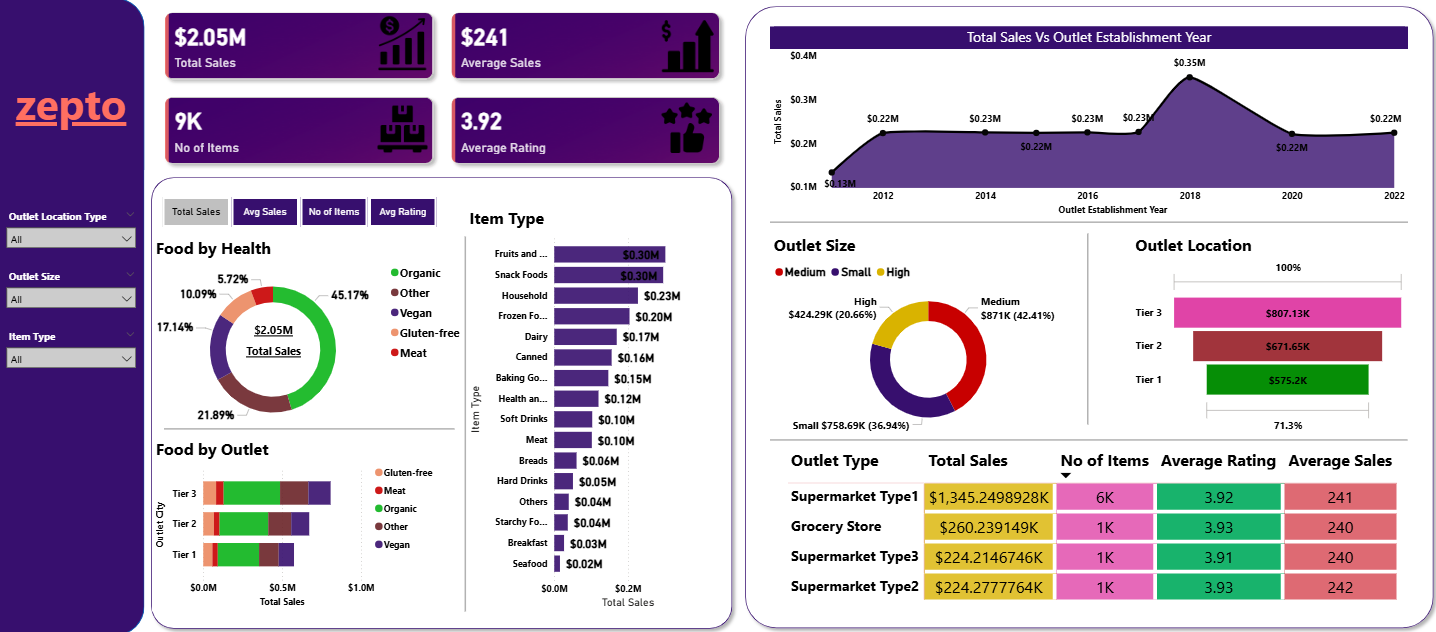

Layout of this report page (visuals, bound fields, positions):
{"tool":"powerbi","page":{"name":"Page 1","canvas":[1920,850],"ordinal":0},"visuals":[{"type":"shape","box":[985.7,2.3,935.8,847.2],"z":0},{"type":"shape","box":[0,0,193.1,849.5],"z":1000},{"type":"textbox","box":[0,96,192,106],"z":2000},{"type":"cardVisual","fields":{"Data":["BlinkIT Grocery Data.Total Sales","BlinkIT Grocery Data.Average Sales","BlinkIT Grocery Data.Number of Items","BlinkIT Grocery Data.Average Rating"]},"box":[204.4,2.3,774.5,236.2],"z":3000},{"type":"shape","box":[193.1,229.4,792.7,620.1],"z":4000},{"type":"donutChart","title":"Food by Health","fields":{"Y":["BlinkIT Grocery Data.Total Sales"],"Category":["BlinkIT Grocery Data.Food Item by Health "]},"box":[202.5,317.5,425,272.5],"z":5000},{"type":"card","fields":{"Values":["BlinkIT Grocery Data.Total Sales"]},"box":[283.9,397.5,163.5,113.6],"z":6000},{"type":"barChart","title":"Food by Outlet","fields":{"Y":["BlinkIT Grocery Data.Total Sales"],"Category":["BlinkIT Grocery Data.Outlet Location Type"],"Series":["BlinkIT Grocery Data.Food Item by Health "]},"box":[204.4,586,388.4,231.7],"z":7000},{"type":"barChart","title":"Item Type","fields":{"Y":["BlinkIT Grocery Data.Total Sales"],"Category":["BlinkIT Grocery Data.Item Type"]},"box":[622.5,277.5,337.5,540],"z":8000},{"type":"lineChart","title":"Total Sales Vs Outlet Establishment Year","fields":{"Category":["BlinkIT Grocery Data.Outlet Establishment Year"],"Y":["BlinkIT Grocery Data.Total Sales"]},"box":[1027.6,38.1,851,256.9],"z":9000},{"type":"donutChart","title":"Outlet Size","fields":{"Y":["BlinkIT Grocery Data.Total Sales"],"Category":["BlinkIT Grocery Data.Outlet Size"]},"box":[1027.6,313.1,421.5,273],"z":10000},{"type":"funnel","title":"Outlet Location","fields":{"Category":["BlinkIT Grocery Data.Outlet Location Type"],"Y":["BlinkIT Grocery Data.Total Sales"]},"box":[1509.3,313.1,369.3,270.9],"z":11000},{"type":"pivotTable","fields":{"Rows":["BlinkIT Grocery Data.Outlet Type"],"Values":["BlinkIT Grocery Data.Total Sales","BlinkIT Grocery Data.No of Items","BlinkIT Grocery Data.Average Rating","BlinkIT Grocery Data.Average Sales"]},"box":[1045,592.5,832.5,225],"z":12000},{"type":"slicer","title":"8","fields":{"Values":["BlinkIT Grocery Data.Outlet Location Type"]},"box":[0,277,192.7,72.3],"z":13000},{"type":"slicer","fields":{"Values":["Slicer.Slicer"]},"box":[192.7,258.9,415.4,54.2],"z":16000},{"type":"shape","box":[220,472.5,387.5,205],"z":17000},{"type":"shape","box":[427.5,317.5,387.5,500],"z":18000},{"type":"shape","box":[1258.4,313.1,387.3,254.9],"z":19000},{"type":"shape","box":[1027.6,38.1,851,521.8],"z":20000},{"type":"slicer","title":"8","fields":{"Values":["BlinkIT Grocery Data.Outlet Size"]},"box":[0,355.2,192.7,72.3],"z":22000},{"type":"slicer","title":"8","fields":{"Values":["BlinkIT Grocery Data.Item Type"]},"box":[0,435.5,192.7,72.3],"z":23000},{"type":"shape","box":[1027.5,327.5,850,522.5],"z":23001},{"type":"image","box":[465.1,17.5,142.9,84.1],"z":23002},{"type":"image","box":[876.2,134.9,82.5,77.8],"z":23003},{"type":"image","box":[495.1,136.3,84,77.2],"z":23004},{"type":"image","box":[876.2,17.5,84.1,92.1],"z":23005}]}

Visuals, with their boxes in screenshot pixels (x1, y1, x2, y2), scaled from the page's 1920x850 canvas onto the 1436x632 screenshot:
shape: rect(737, 2, 1435, 631)
shape: rect(0, 0, 144, 631)
textbox: rect(0, 71, 144, 150)
cardVisual - BlinkIT Grocery Data.Total Sales x BlinkIT Grocery Data.Average Sales: rect(153, 2, 732, 177)
shape: rect(144, 171, 737, 631)
"Food by Health" donutChart: rect(151, 236, 469, 439)
card - BlinkIT Grocery Data.Total Sales: rect(212, 296, 335, 380)
"Food by Outlet" barChart: rect(153, 436, 443, 608)
"Item Type" barChart: rect(466, 206, 718, 608)
"Total Sales Vs Outlet Establishment Year" lineChart: rect(769, 28, 1405, 219)
"Outlet Size" donutChart: rect(769, 233, 1084, 436)
"Outlet Location" funnel: rect(1129, 233, 1405, 434)
pivotTable - BlinkIT Grocery Data.Outlet Type x BlinkIT Grocery Data.Total Sales: rect(782, 441, 1404, 608)
"8" slicer: rect(0, 206, 144, 260)
slicer - Slicer.Slicer: rect(144, 192, 455, 233)
shape: rect(165, 351, 454, 504)
shape: rect(320, 236, 610, 608)
shape: rect(941, 233, 1231, 422)
shape: rect(769, 28, 1405, 416)
"8" slicer: rect(0, 264, 144, 318)
"8" slicer: rect(0, 324, 144, 378)
shape: rect(768, 244, 1404, 631)
image: rect(348, 13, 455, 76)
image: rect(655, 100, 717, 158)
image: rect(370, 101, 433, 159)
image: rect(655, 13, 718, 81)
